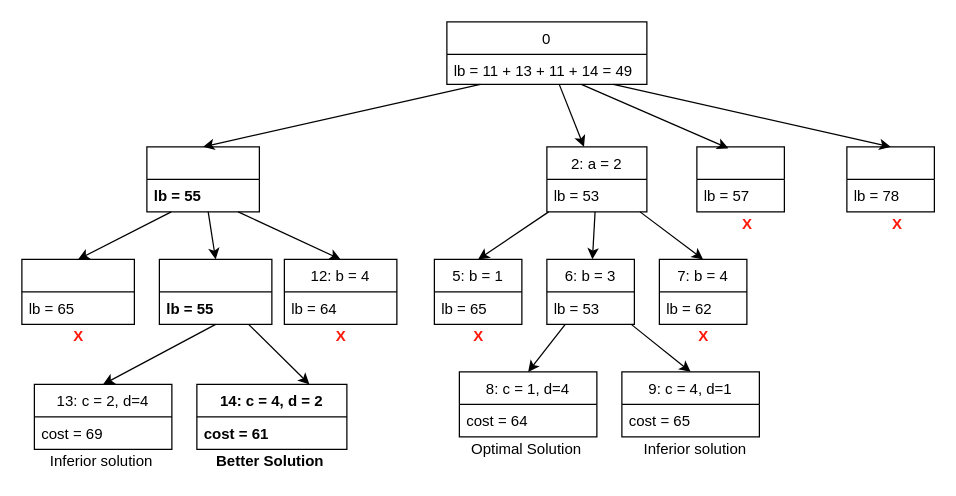
This 956x496 diagram has some shape labels left out. Here are the shapes that lost their labels. From the top down, the box of each, then its label:
(146, 146, 259, 212): 1: a = 1
(696, 146, 784, 212): 3: a = 3
(846, 146, 934, 212): 4: a = 4
(21, 258, 134, 324): 10: b = 2
(158, 258, 272, 324): 11: b = 3
